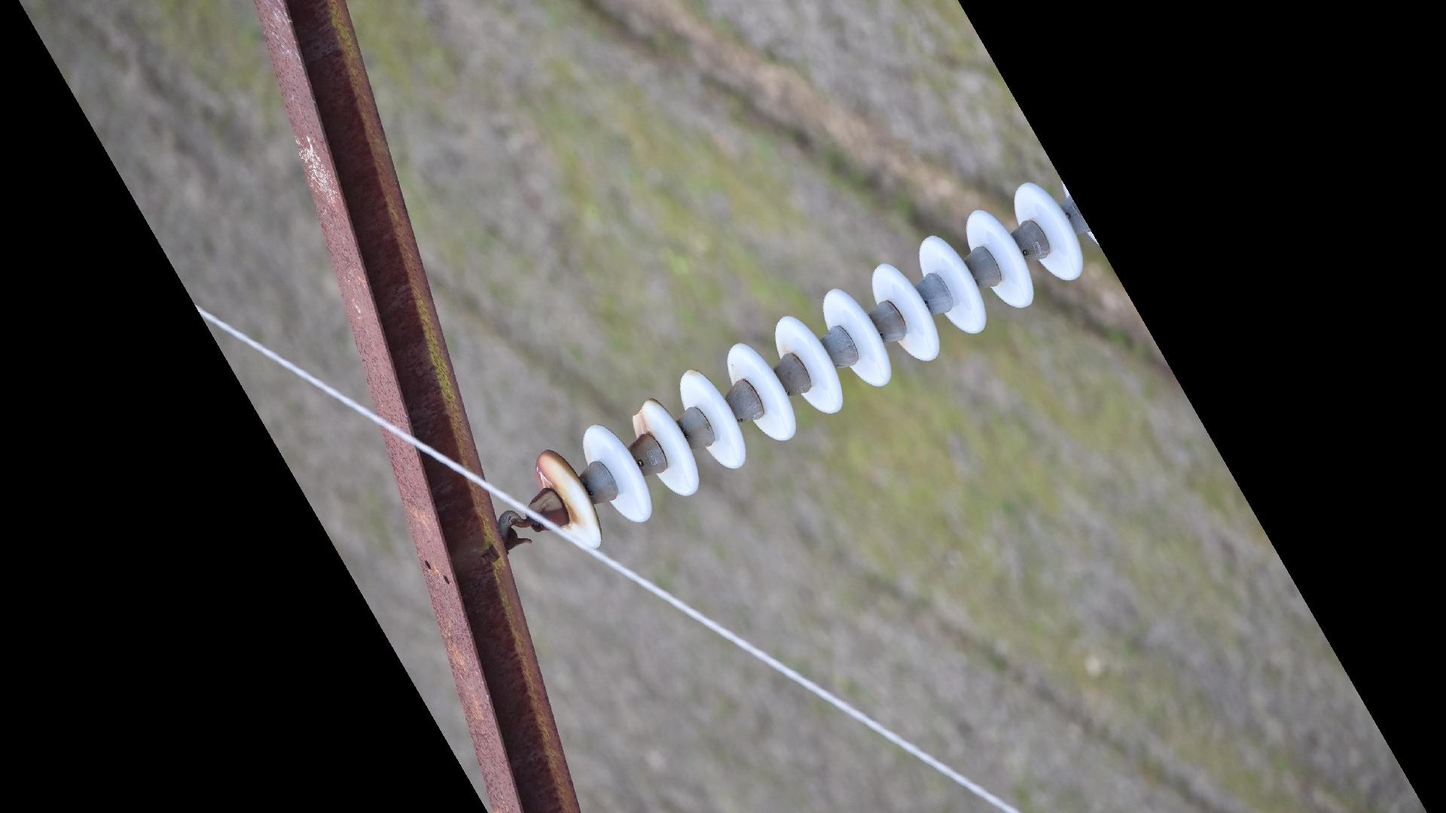insulator: (529, 173, 1090, 555)
insulator_breakage: (627, 397, 664, 427)
